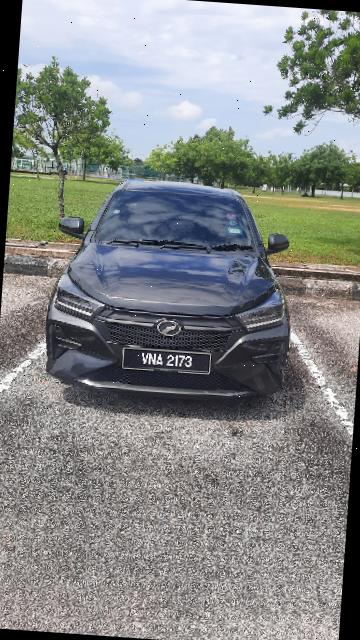License_Plate: (120, 343, 215, 378)
car: (42, 168, 301, 412)
